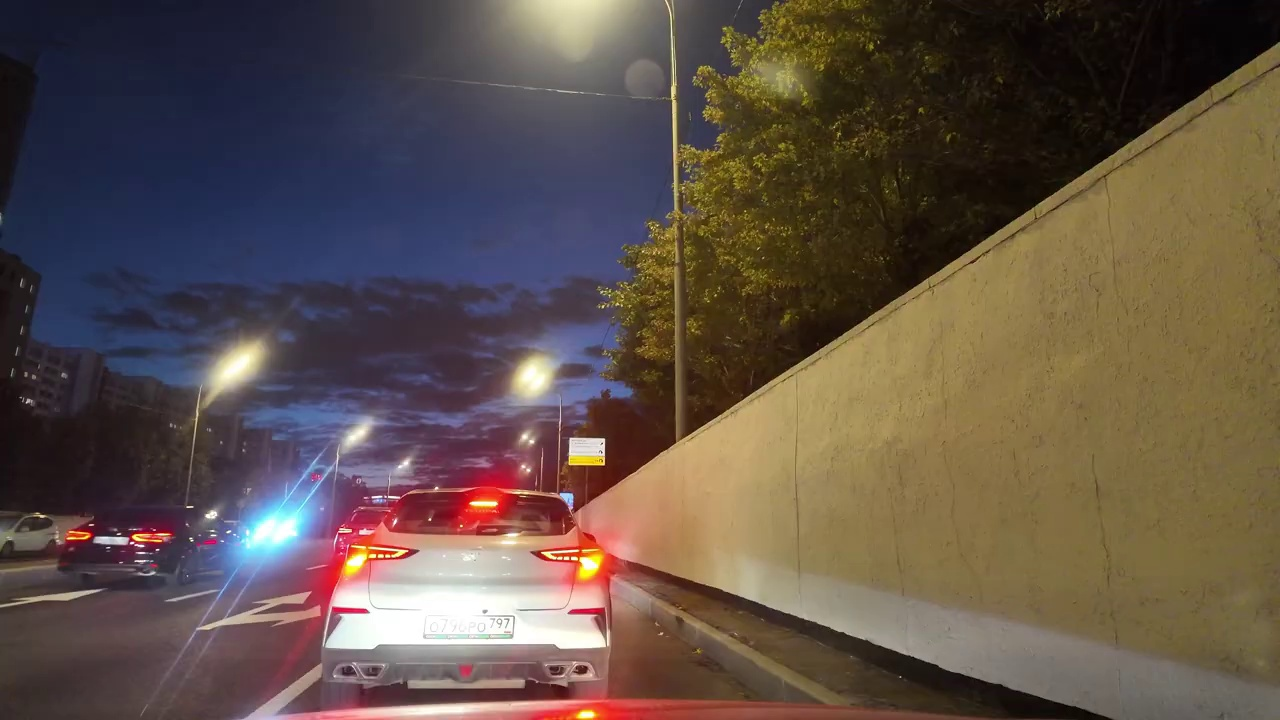acesa: (209, 340, 266, 397), (509, 353, 552, 400), (338, 424, 369, 455)
